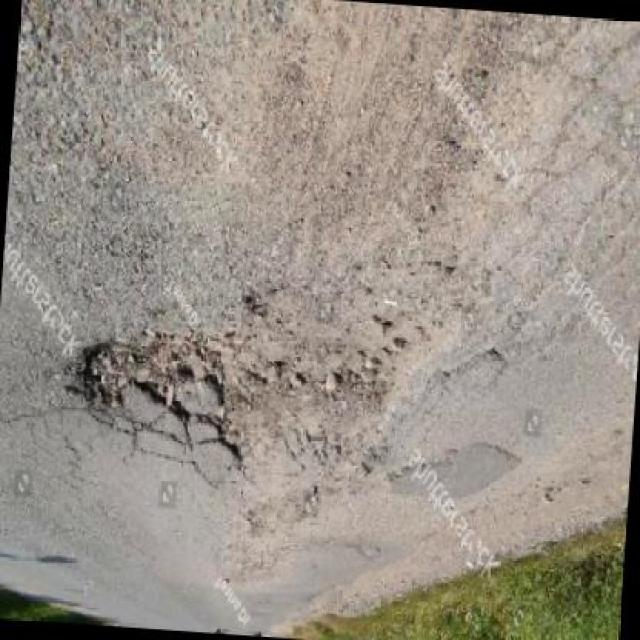pothole1: (60, 324, 248, 471)
